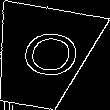O_S: (7, 28, 77, 87)
